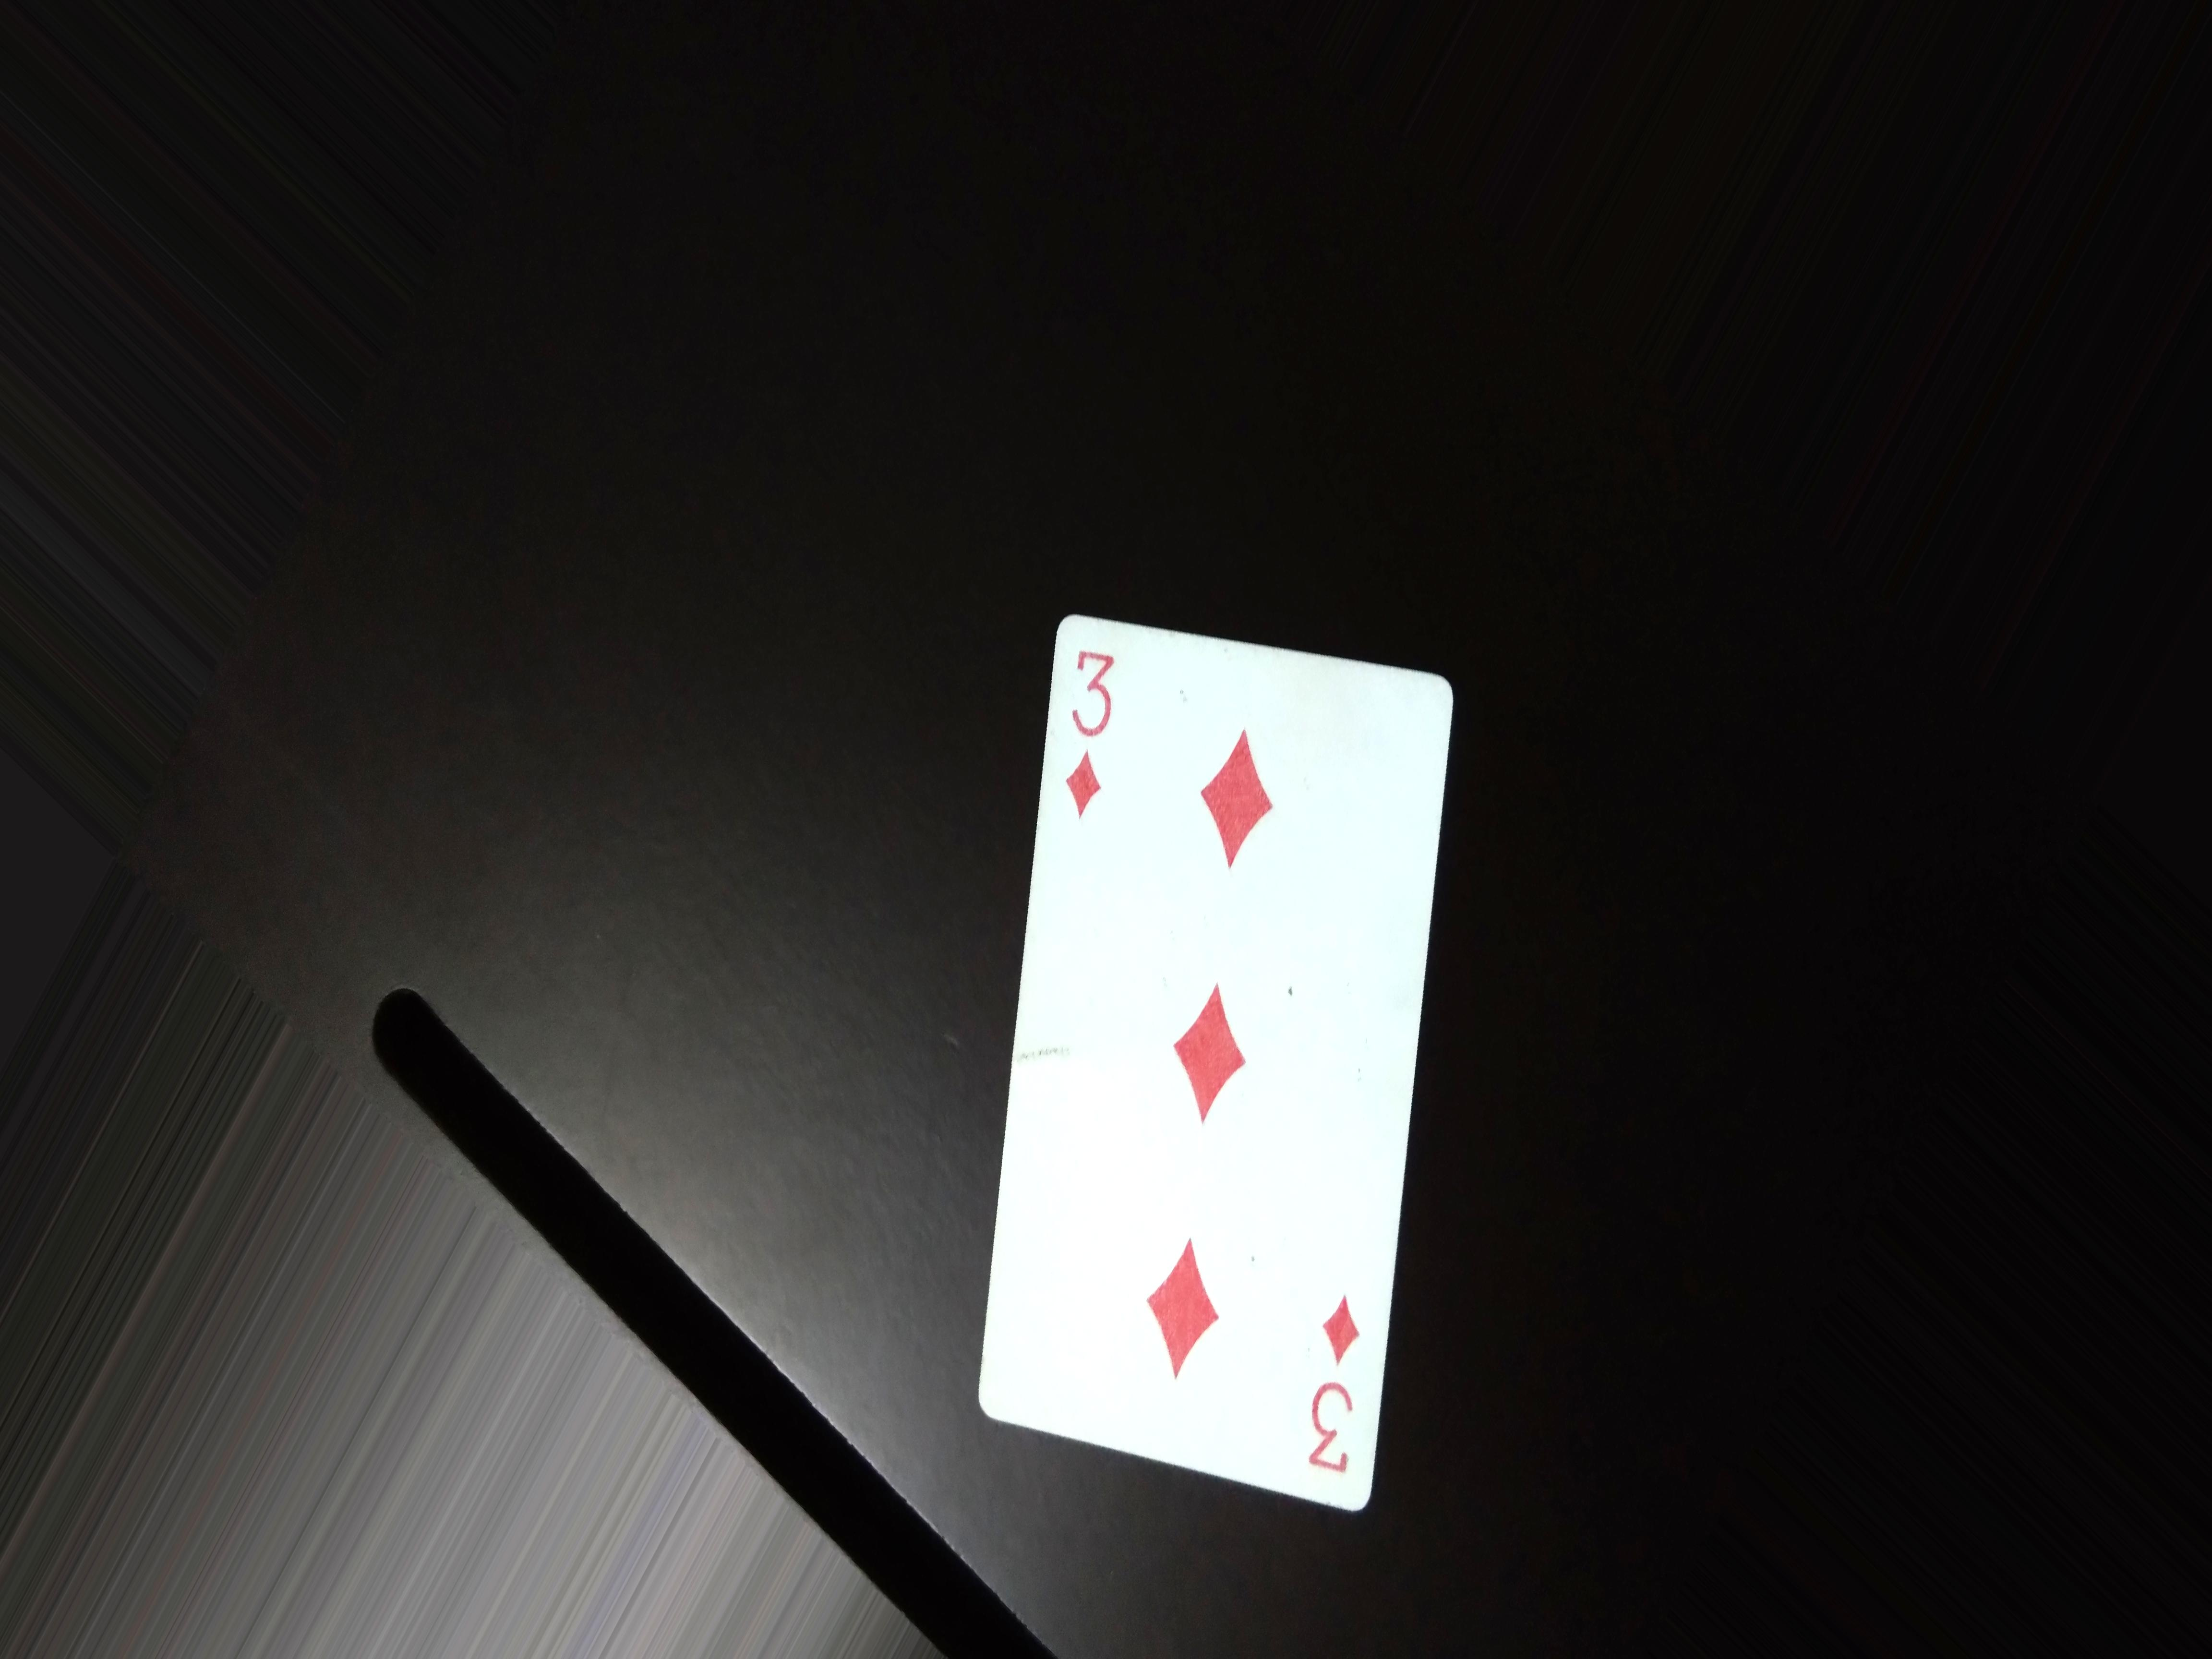3D: (1050, 626, 1137, 823)
